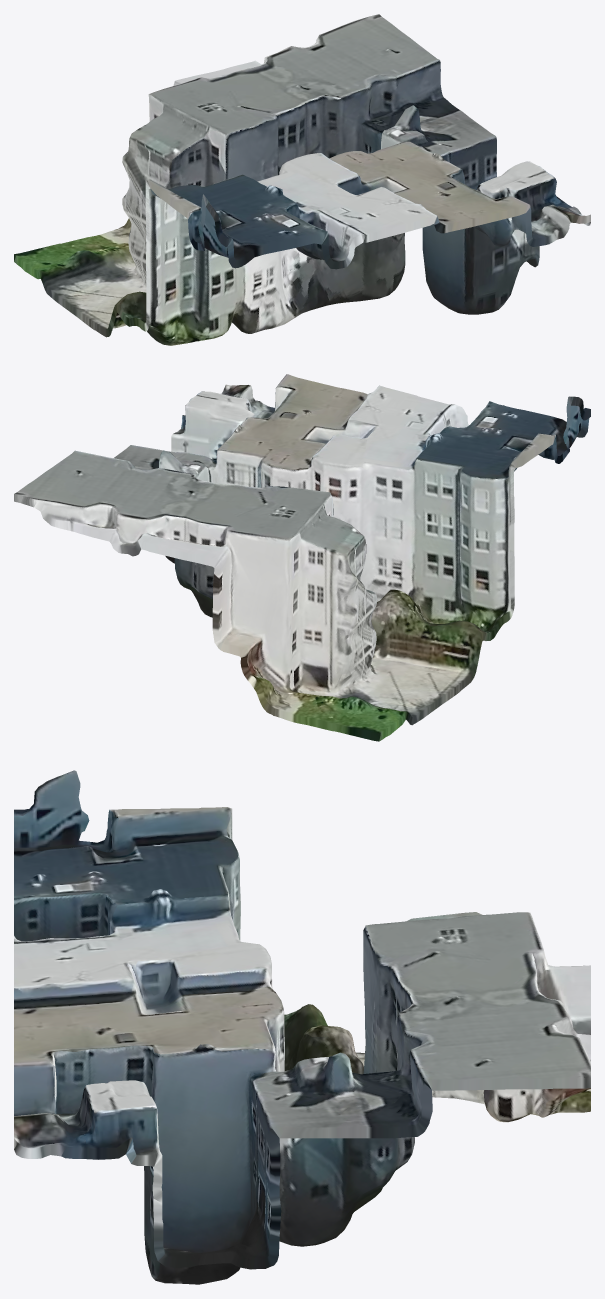
The model's file is z20-167728-405195-h0-yup-uvflip-v3-world.glb.
3 views of the same model, one above another, from view 1: azimuth 30°, elevation 25°; view 2: azimuth 150°, elevation 25°; view 3: azimuth 270°, elevation 25° (orthographic). The views are drawn at different scales.
Size of the model in its own units: 30.16 by 17.28 by 30.32.
1 material, 1 textured.
